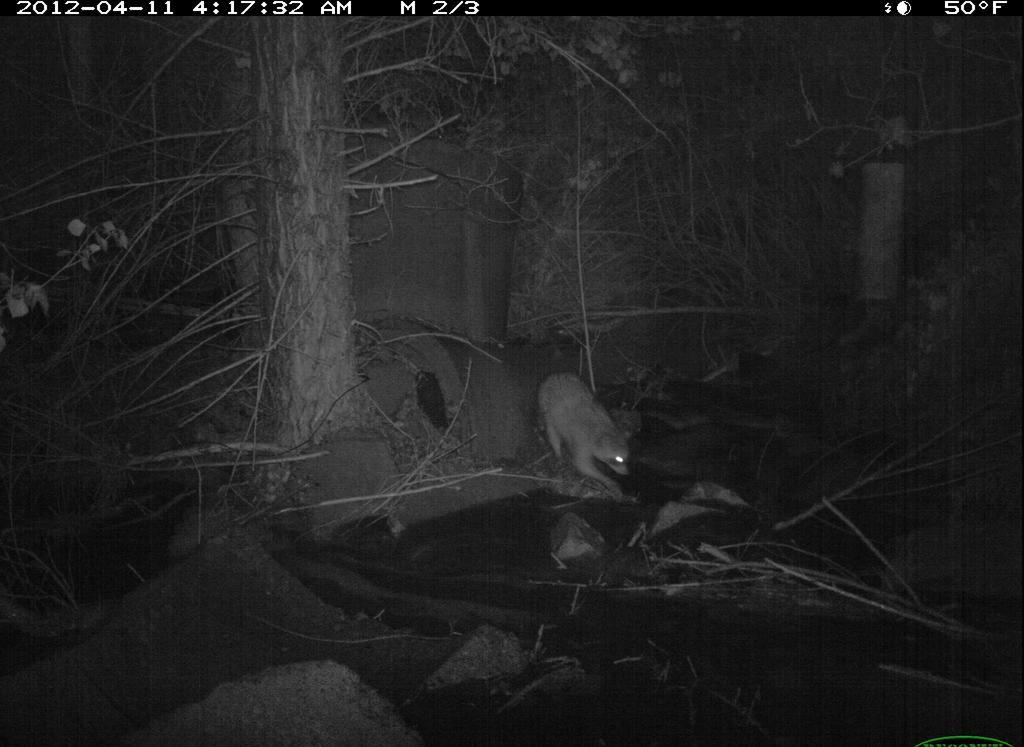raccoon: (533, 365, 649, 521)
